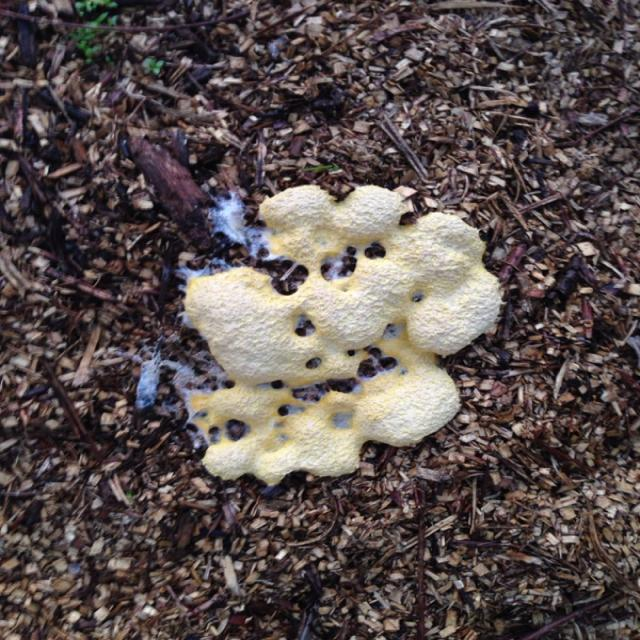Dog_vomit_slime_mold: (156, 163, 516, 498)
